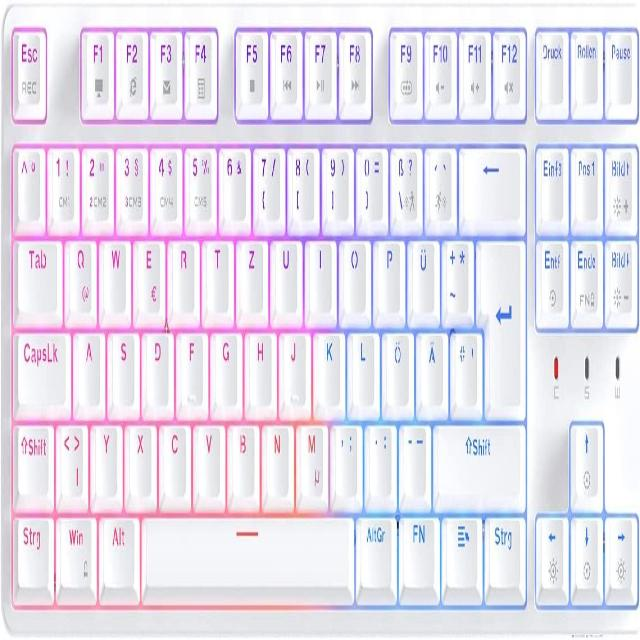0: (354, 139, 387, 229)
1: (46, 140, 77, 228)
2: (80, 139, 112, 228)
3: (114, 139, 147, 228)
4: (149, 139, 180, 228)
5: (182, 139, 215, 228)
6: (217, 139, 249, 228)
7: (252, 140, 283, 228)
8: (285, 139, 317, 229)
9: (320, 139, 353, 229)
a: (72, 325, 101, 408)
accent: (423, 139, 454, 227)
ae: (415, 325, 446, 411)
alt-left: (98, 508, 137, 590)
altgr-right: (355, 511, 394, 592)
b: (226, 416, 257, 501)
c: (158, 416, 189, 501)
caret: (12, 140, 42, 225)
comma: (329, 417, 361, 503)
d: (140, 325, 170, 408)
del: (457, 138, 524, 229)
e: (132, 231, 163, 319)
enter: (474, 230, 524, 417)
f: (175, 325, 204, 410)
g: (209, 324, 239, 409)
h: (243, 325, 274, 408)
hash: (448, 325, 481, 412)
i: (303, 233, 334, 318)
j: (278, 325, 307, 410)
k: (312, 325, 344, 410)
keyboard: (1, 0, 638, 632)
l: (347, 325, 377, 408)
less: (54, 416, 87, 504)
m: (294, 416, 326, 503)
minus: (396, 418, 429, 504)
n: (260, 416, 292, 502)
o: (337, 233, 369, 316)
oe: (381, 325, 413, 411)
p: (373, 233, 402, 316)
plus: (440, 233, 472, 320)
point: (364, 418, 395, 503)
q: (63, 233, 95, 321)
r: (166, 233, 197, 318)
s: (106, 325, 136, 410)
shift-left: (12, 416, 52, 503)
shift-lock: (12, 325, 69, 411)
shift-right: (431, 417, 524, 505)
space: (140, 508, 353, 595)
ss: (388, 139, 421, 229)
strg-left: (13, 509, 52, 590)
strg-right: (483, 511, 525, 599)
t: (201, 233, 230, 314)
tab: (13, 233, 60, 318)
u: (269, 233, 300, 318)
ue: (406, 232, 437, 320)
v: (193, 416, 224, 502)
w: (98, 232, 129, 318)
x: (124, 416, 154, 502)
y: (90, 417, 119, 501)
z: (235, 233, 265, 316)
